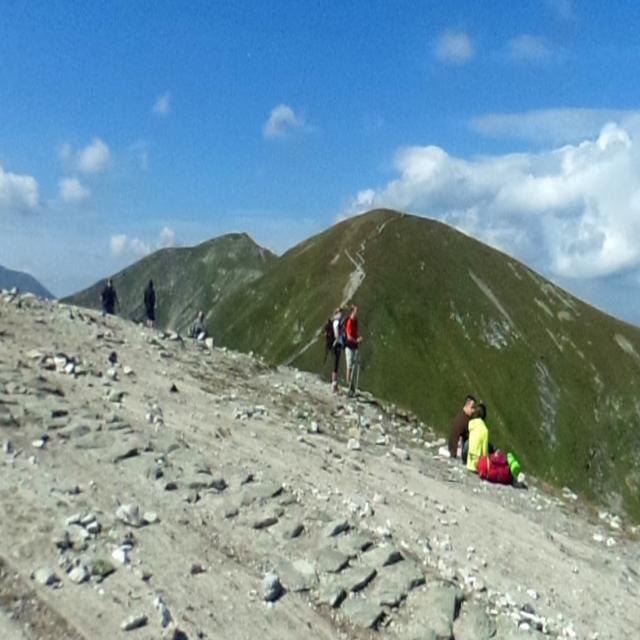Krzesanica: (193, 192, 284, 276)
Malolaczniak: (308, 140, 457, 273)
